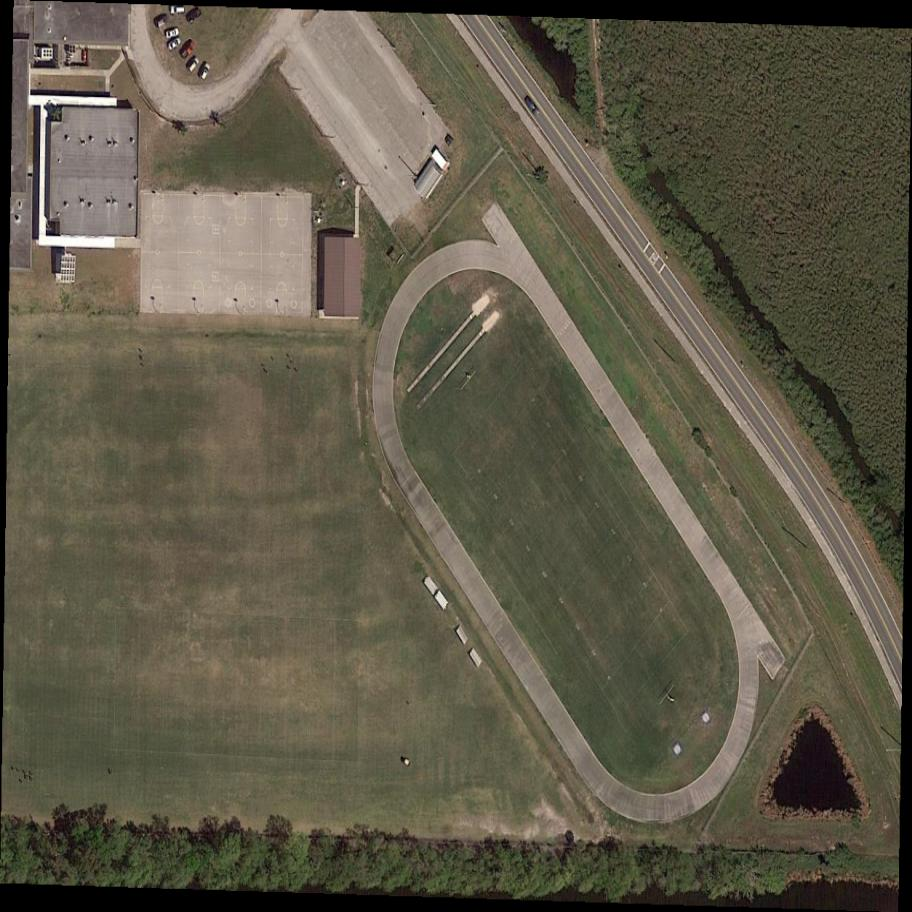small-vehicle: (177, 39, 199, 63), (521, 95, 541, 118), (184, 7, 204, 25), (185, 55, 203, 74), (198, 62, 213, 83), (165, 35, 184, 51), (154, 15, 171, 31), (165, 25, 182, 40), (169, 5, 188, 17)
